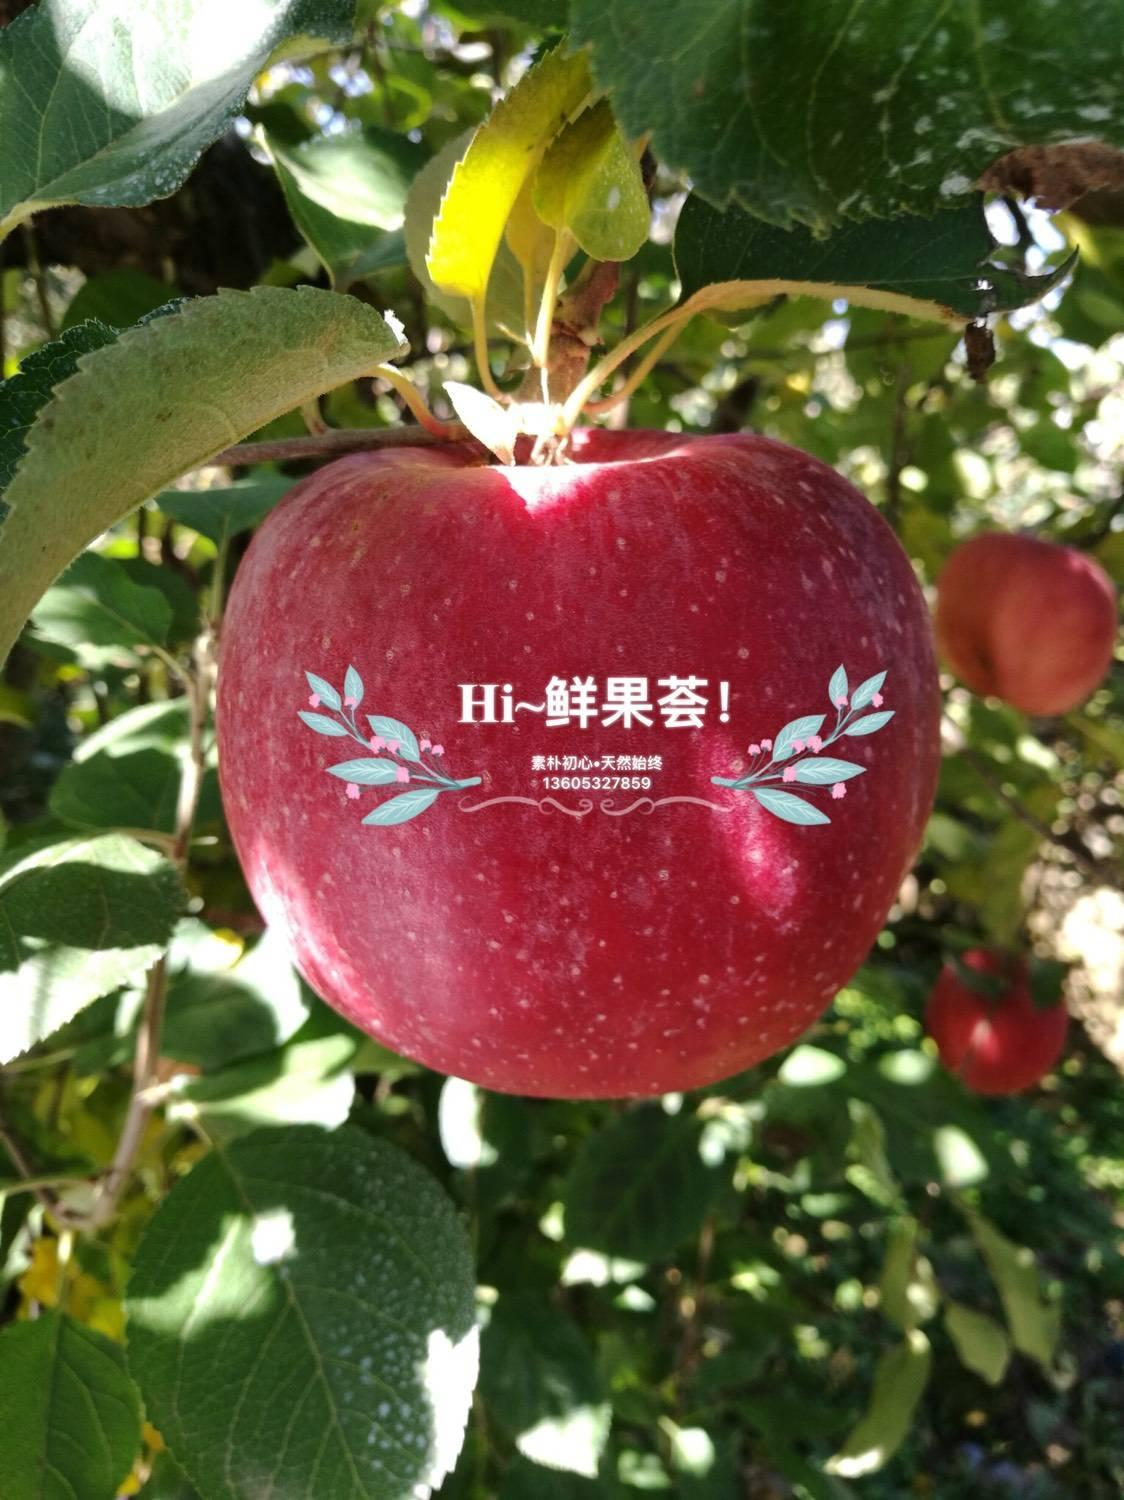apple: (208, 408, 937, 1109)
